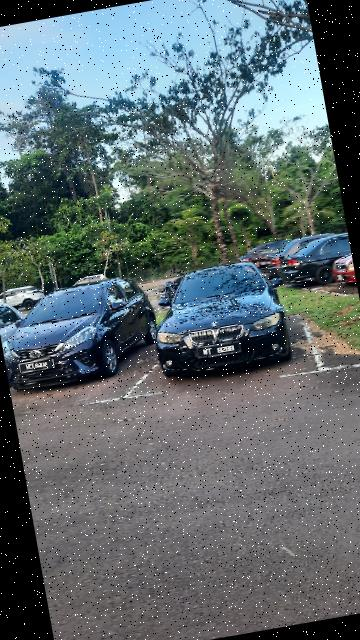License_Plate: (197, 340, 243, 362), (18, 358, 58, 376)
car: (141, 252, 301, 388), (1, 273, 165, 395)
